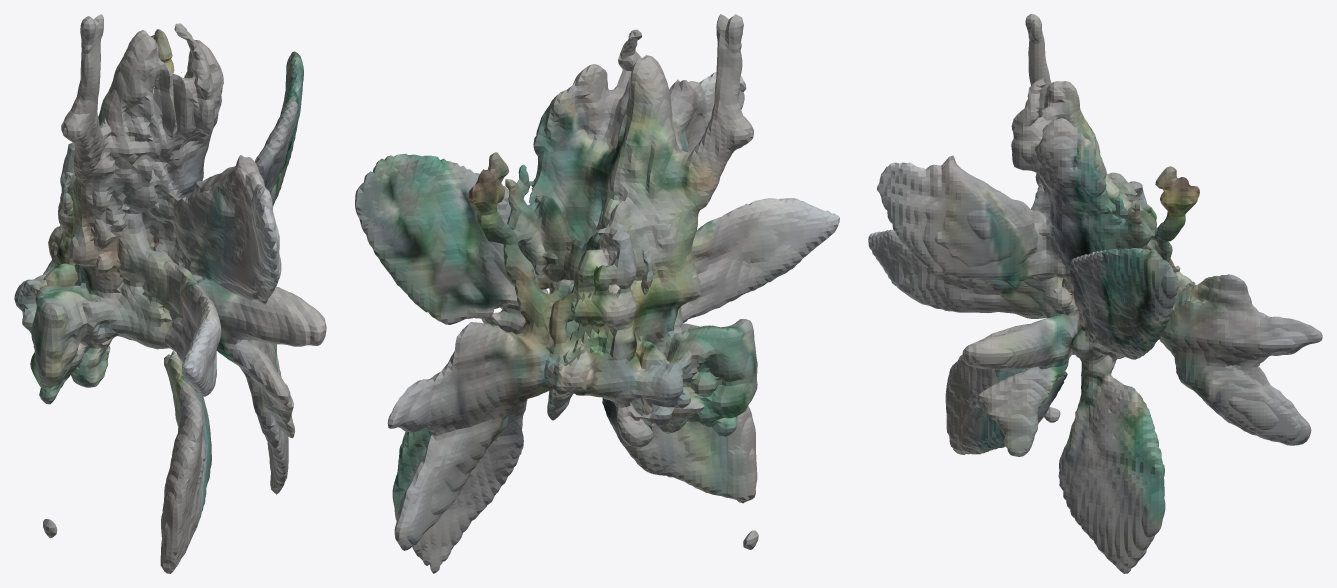
Rendered from anubias-barteri.glb.
3 renders of one model, left to right at view 1: azimuth 30°, elevation 25°; view 2: azimuth 150°, elevation 25°; view 3: azimuth 270°, elevation 25°, orthographic. The views are drawn at different scales.
Parts seen in each view (by area): view 1: world; view 2: world; view 3: world.
Boxes of the visible parts, x1=… form: world: x1=14, y1=14, x2=326, y2=573; world: x1=355, y1=14, x2=839, y2=573; world: x1=868, y1=14, x2=1322, y2=573.
Size of the model in its own units: 0.5365 by 0.9001 by 0.7986.
